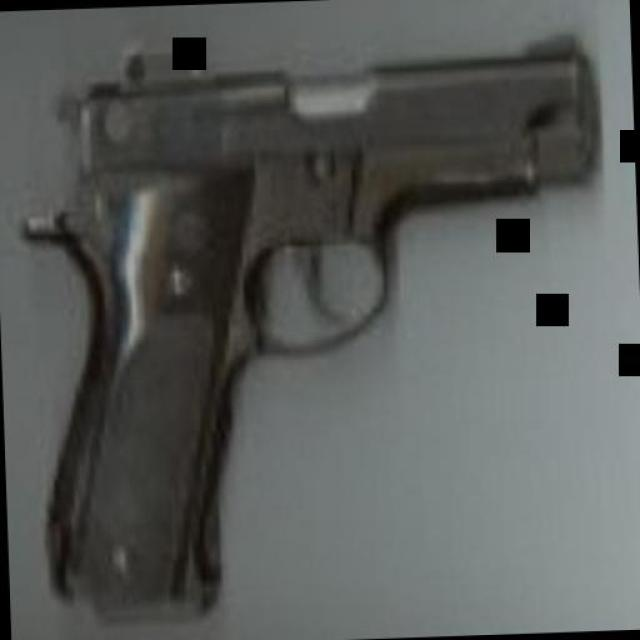gun: (16, 20, 616, 626)
